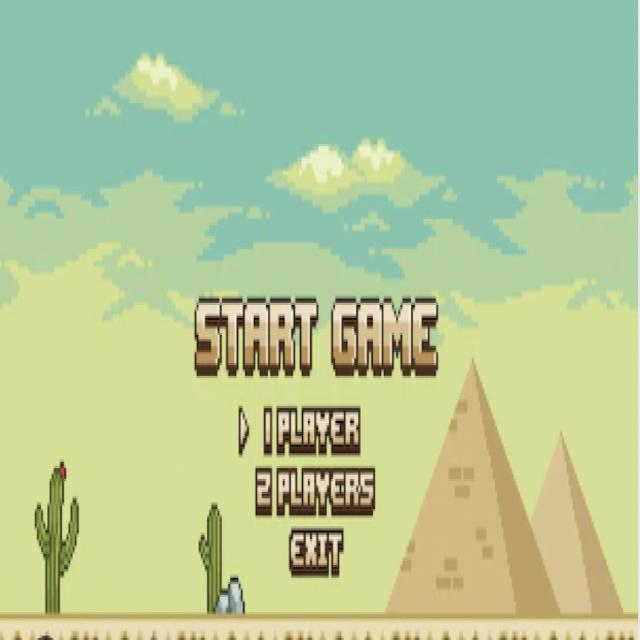Start-button: (186, 260, 457, 408)
